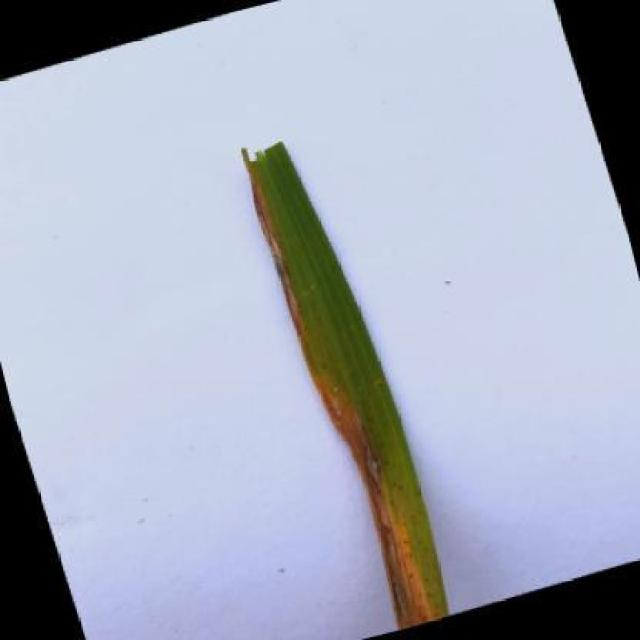Rice False Smut: (239, 125, 452, 638)
